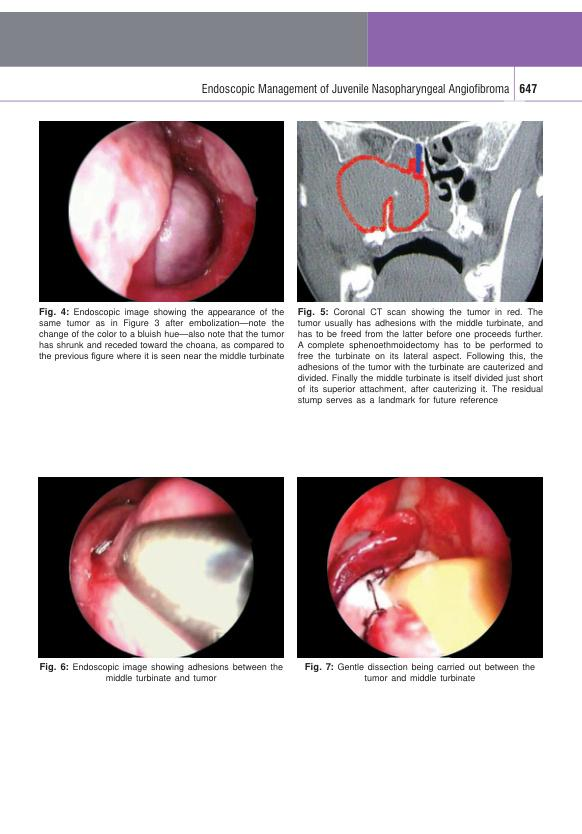caption: (297, 306, 544, 407), (37, 305, 285, 362), (38, 660, 284, 683), (304, 661, 537, 683)
header: (200, 81, 509, 97)
image: (296, 119, 544, 303), (38, 120, 285, 303), (296, 476, 543, 659), (38, 476, 285, 658)
